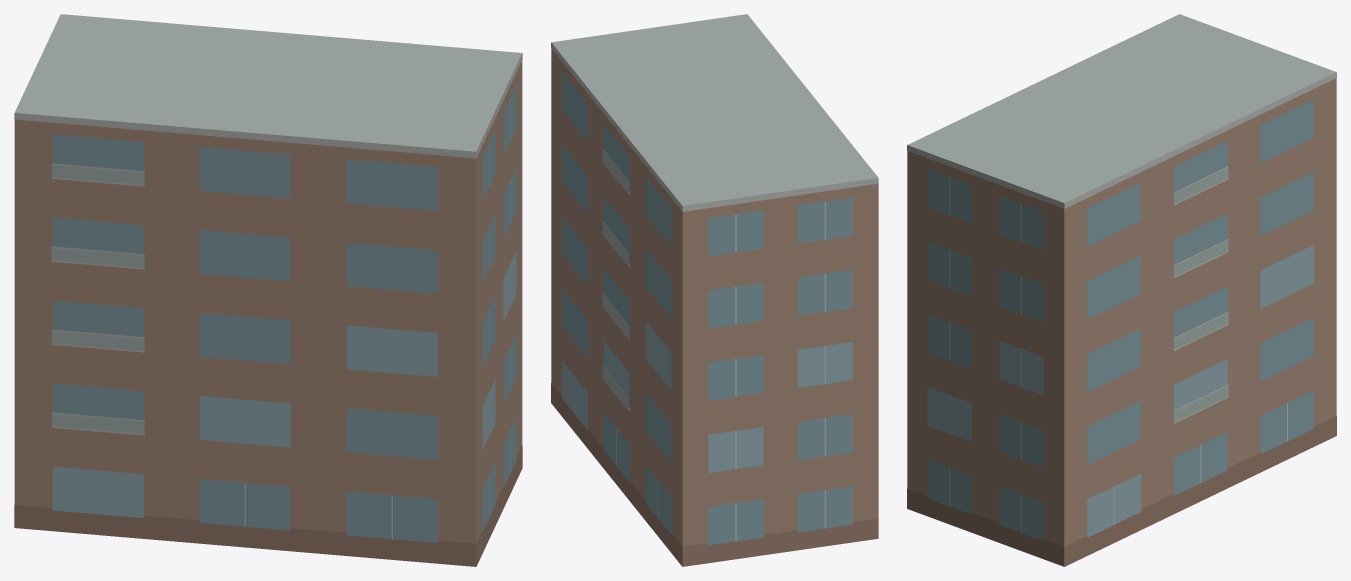
Rendered from survey-upis-33045568.glb.
The picture shows the model from 3 angles, left to right: view 1: azimuth 30°, elevation 25°; view 2: azimuth 150°, elevation 25°; view 3: azimuth 270°, elevation 25°; orthographic projection. The views are drawn at different scales.
Parts seen in each view (by area): view 1: survey-upis-33045568.tmp; view 2: survey-upis-33045568.tmp; view 3: survey-upis-33045568.tmp.
Part boxes in pixels (box(x1,y1,x2,y2)): survey-upis-33045568.tmp: box(14, 14, 522, 566); survey-upis-33045568.tmp: box(551, 14, 878, 566); survey-upis-33045568.tmp: box(907, 14, 1336, 566).
Bounding box in the file's own units: 17.01 × 15.25 × 16.33.
